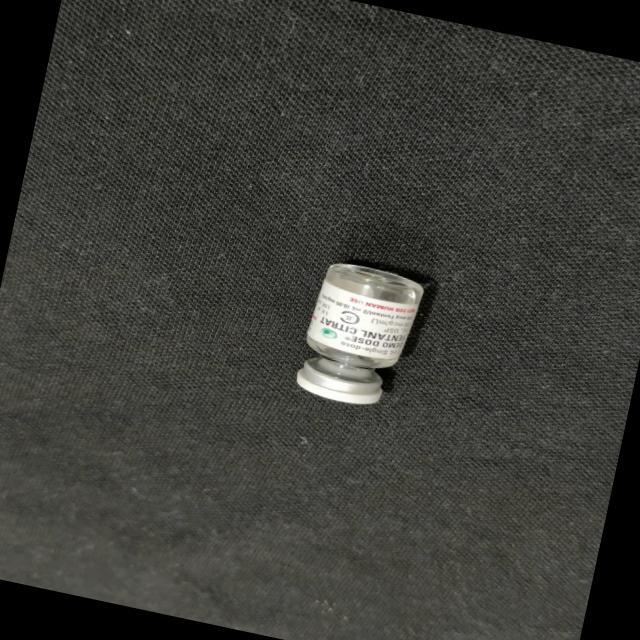fentanl_citrat: (294, 256, 426, 409)
